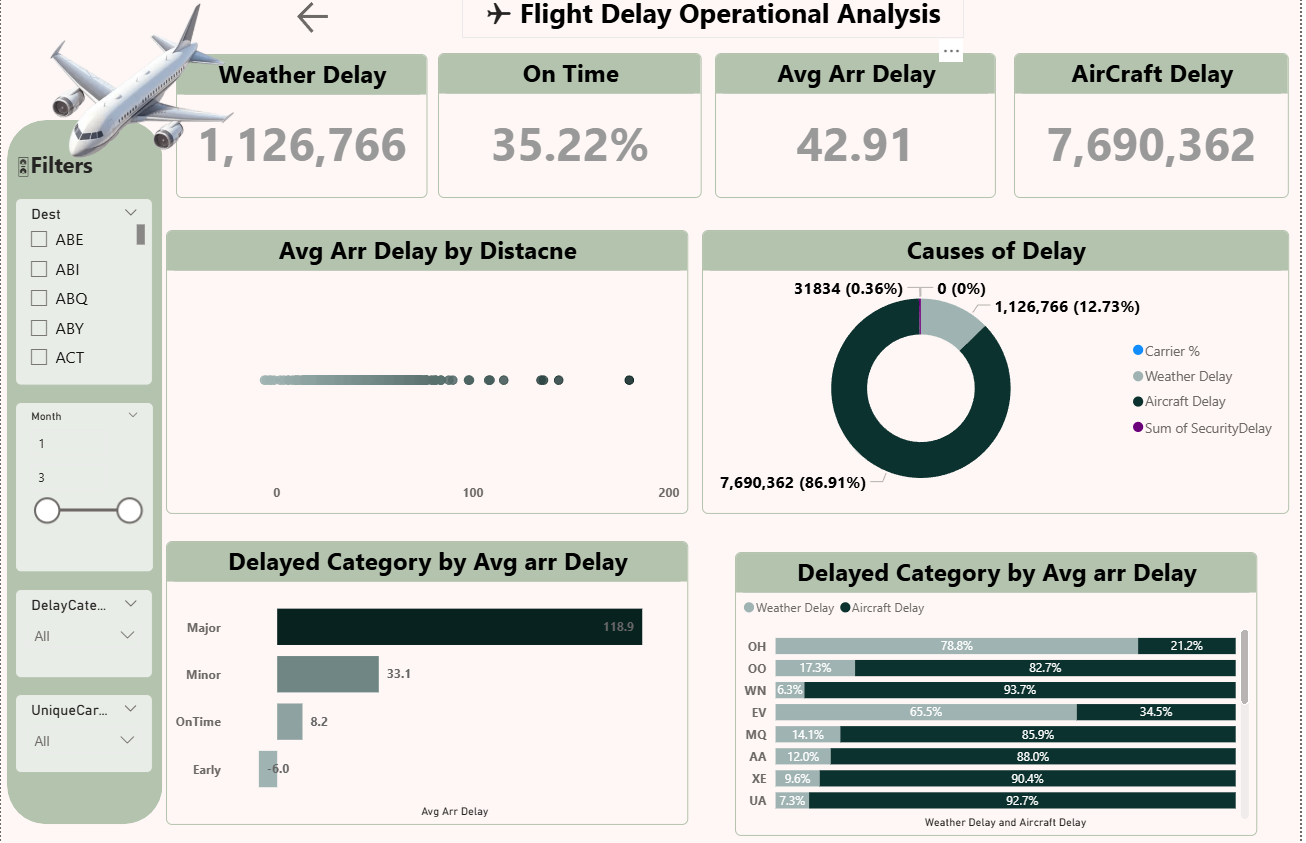

The dashboard page shown, as its layout file describes it:
{"tool":"powerbi","page":{"name":"Operational","canvas":[1280,850],"ordinal":2},"visuals":[{"type":"shape","box":[6.1,133.2,153.4,694.5],"z":0},{"type":"card","title":"Weather Delay","fields":{"Values":["Dax Measures.Weather Delay"]},"box":[172.6,68,247.5,142],"z":1000},{"type":"card","title":"On Time","fields":{"Values":["Dax Measures.% OnTime"]},"box":[430.9,67.1,260.3,143],"z":2000},{"type":"card","title":"Avg Arr Delay","fields":{"Values":["Dax Measures.Avg Arr Delay"]},"box":[704.1,67.1,277.1,143],"z":3000},{"type":"card","title":"AirCraft Delay","fields":{"Values":["Dax Measures.Aircraft Delay"]},"box":[998.9,67.1,271.2,143],"z":4000},{"type":"scatterChart","title":"Avg Arr Delay by Distacne","fields":{"Category":["FactFleight.Distance"],"X":["Dax Measures.Avg Arr Delay"]},"box":[162.4,241.2,514.5,280.1],"z":5000},{"type":"donutChart","title":"Causes of Delay","fields":{"Y":["Dax Measures.Carrier %","Dax Measures.Weather Delay","Dax Measures.Aircraft Delay","Sum(FactFleight.SecurityDelay)"]},"box":[691.6,241.2,578.7,280.1],"z":6000},{"type":"clusteredBarChart","title":"Delayed Category by Avg arr Delay","fields":{"Category":["Dim_DelayCategory.DelayCategory"],"Y":["Dax Measures.Avg Arr Delay"]},"box":[162.7,548.3,514.7,280],"z":7000},{"type":"textbox","box":[454.6,3.9,495,48.3],"z":8000},{"type":"image","box":[0,0,267.2,210],"z":9000},{"type":"slicer","fields":{"Values":["Dim_Date.Month"]},"box":[13.5,411.4,136.9,167.7],"z":10000},{"type":"slicer","fields":{"Values":["Dim_Dest.Dest"]},"box":[14.1,210,136.3,184.7],"z":11000},{"type":"slicer","fields":{"Values":["Dim_Carrier.UniqueCarrier"]},"box":[13.8,699.1,136.1,77.9],"z":12000},{"type":"slicer","fields":{"Values":["Dim_DelayCategory.DelayCategory"]},"box":[14.1,595.6,136.3,87.8],"z":13000},{"type":"textbox","box":[9.9,157.8,87.8,40.4],"z":14000},{"type":"actionButton","box":[9.9,153.8,87.8,48.3],"z":15000},{"type":"actionButton","box":[100.6,153.8,35.5,48.3],"z":16000},{"type":"actionButton","box":[287.9,11.8,48.3,40.4],"z":17000},{"type":"hundredPercentStackedBarChart","title":"Delayed Category by Avg arr Delay","fields":{"Category":["Dim_Carrier.UniqueCarrier"],"Y":["Dax Measures.Weather Delay","Dax Measures.Aircraft Delay"]},"box":[723.8,559.1,514.7,280],"z":18000}]}

Visuals, with their boxes in screenshot pixels (x1, y1, x2, y2), scaled from the page's 1280x850 canvas onto the 1306x843 screenshot:
shape: bbox=[6, 132, 163, 821]
"Weather Delay" card: bbox=[176, 67, 429, 208]
"On Time" card: bbox=[440, 67, 705, 208]
"Avg Arr Delay" card: bbox=[718, 67, 1001, 208]
"AirCraft Delay" card: bbox=[1019, 67, 1296, 208]
"Avg Arr Delay by Distacne" scatterChart: bbox=[166, 239, 691, 517]
"Causes of Delay" donutChart: bbox=[706, 239, 1296, 517]
"Delayed Category by Avg arr Delay" clusteredBarChart: bbox=[166, 544, 691, 821]
textbox: bbox=[464, 4, 969, 52]
image: bbox=[0, 0, 273, 208]
slicer - Dim_Date.Month: bbox=[14, 408, 153, 574]
slicer - Dim_Dest.Dest: bbox=[14, 208, 153, 391]
slicer - Dim_Carrier.UniqueCarrier: bbox=[14, 693, 153, 771]
slicer - Dim_DelayCategory.DelayCategory: bbox=[14, 591, 153, 678]
textbox: bbox=[10, 157, 100, 197]
actionButton: bbox=[10, 153, 100, 200]
actionButton: bbox=[103, 153, 139, 200]
actionButton: bbox=[294, 12, 343, 52]
"Delayed Category by Avg arr Delay" hundredPercentStackedBarChart: bbox=[739, 554, 1264, 832]
